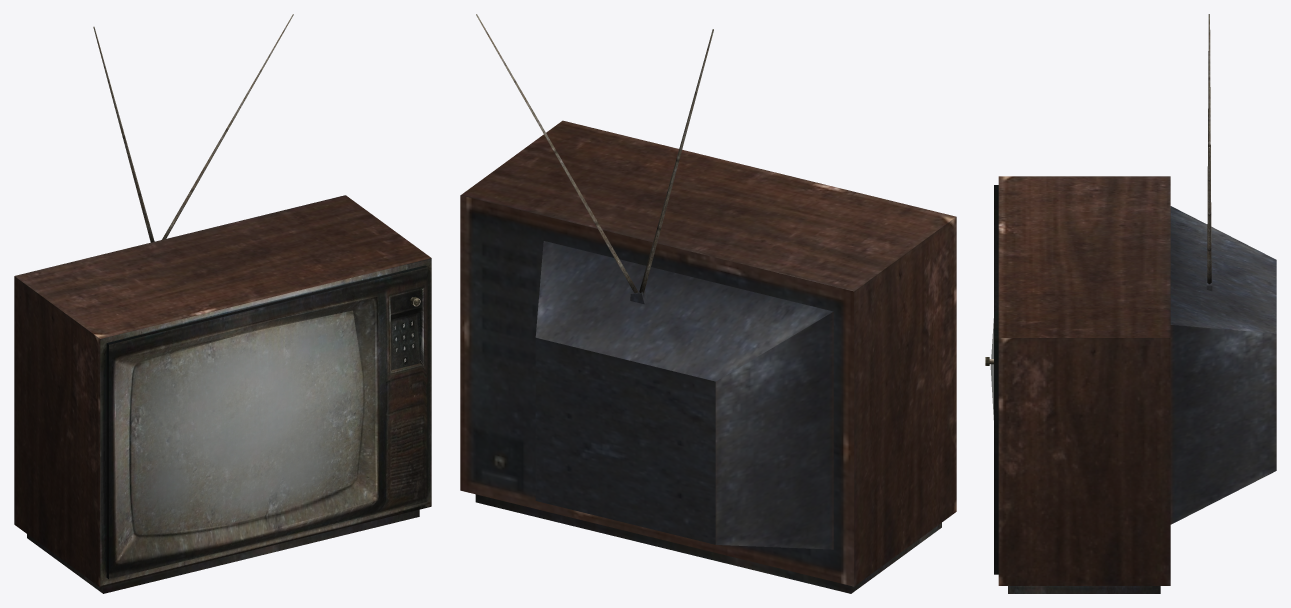
The model's file is furniture_tv.dae.
3 views of the same model, side by side, from view 1: azimuth 30°, elevation 25°; view 2: azimuth 150°, elevation 25°; view 3: azimuth 270°, elevation 25° (orthographic). The views are drawn at different scales.
Parts seen in each view (by area): view 1: tv; view 2: tv; view 3: tv.
Part boxes in pixels (x1,y1,x2,y2): tv: [14, 14, 431, 593]; tv: [460, 14, 956, 593]; tv: [985, 14, 1276, 593].
Size of what is drawn, in the model's own units: 0.8 by 1.09 by 0.609.
